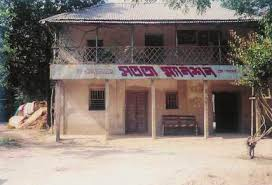Mud House: (35, 2, 265, 150)
